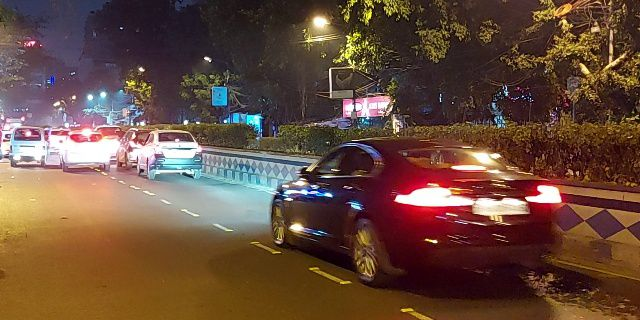Car: (274, 136, 567, 275), (143, 130, 207, 176), (60, 124, 111, 178)
